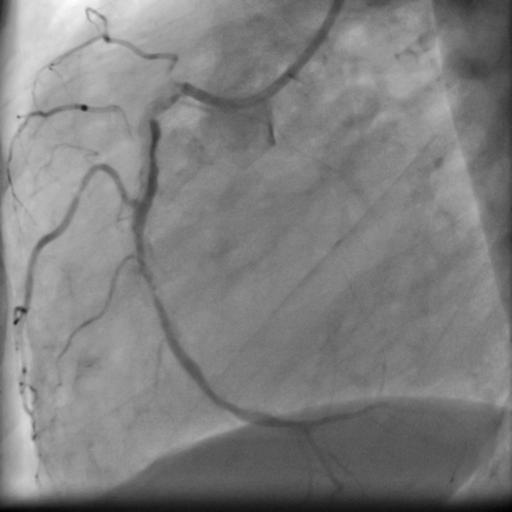Stenosis: (138, 101, 162, 123)
